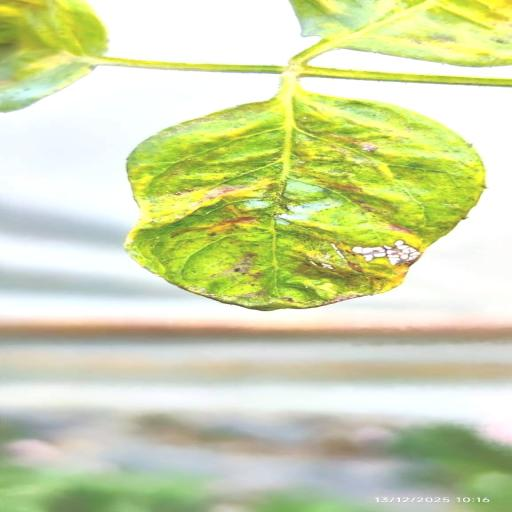thrip: (126, 79, 484, 310), (290, 0, 511, 67), (0, 0, 107, 112)
